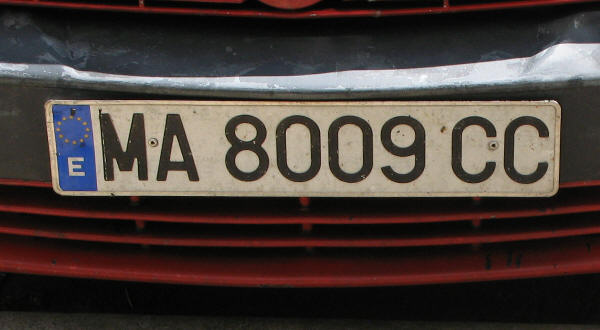license_plate: (43, 98, 561, 198)
